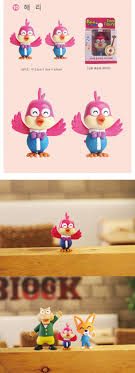Harry: (10, 87, 66, 162), (69, 89, 124, 160), (49, 210, 85, 253), (57, 323, 78, 350)
